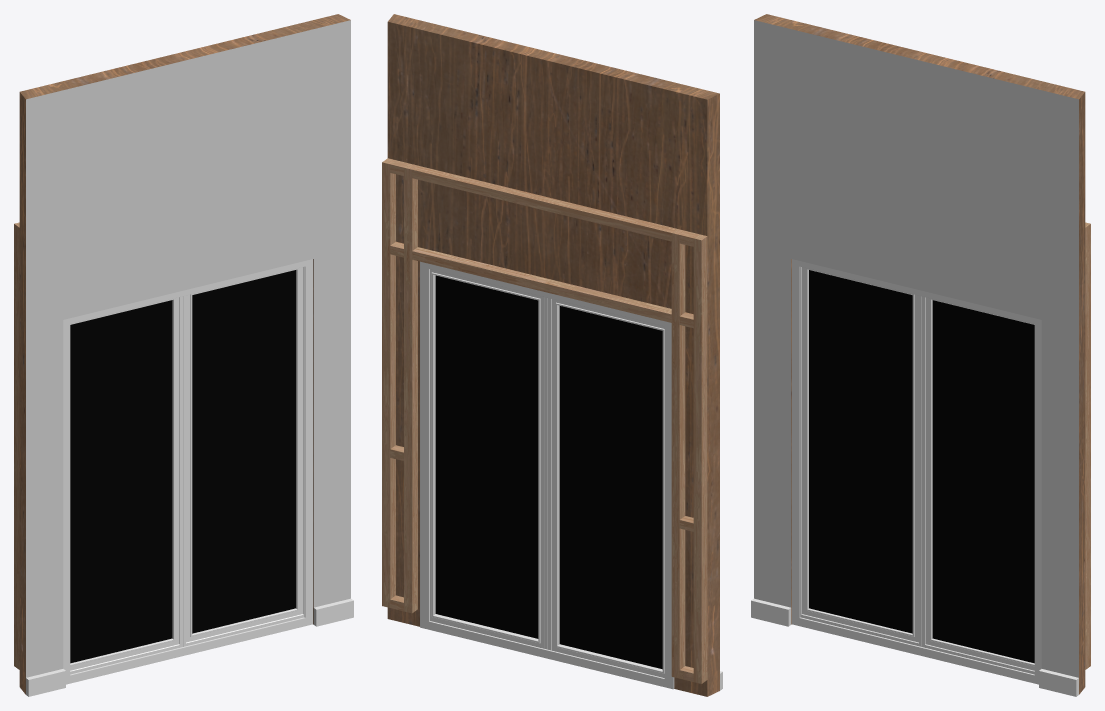
File: MovieSet_WallWindow_03.fbx
3 renders of one model, left to right at view 1: azimuth 30°, elevation 25°; view 2: azimuth 150°, elevation 25°; view 3: azimuth 330°, elevation 25°, orthographic.
Parts seen in each view (by area): view 1: MovieSet_Wall_Window_03; view 2: MovieSet_Wall_Window_03; view 3: MovieSet_Wall_Window_03.
Boxes of the visible parts, x1,y1,x2,y2 form: MovieSet_Wall_Window_03: (14,14,353,696); MovieSet_Wall_Window_03: (382,14,722,696); MovieSet_Wall_Window_03: (751,14,1090,696).
Size of the model in its own units: 2 by 3.5 by 0.19.
